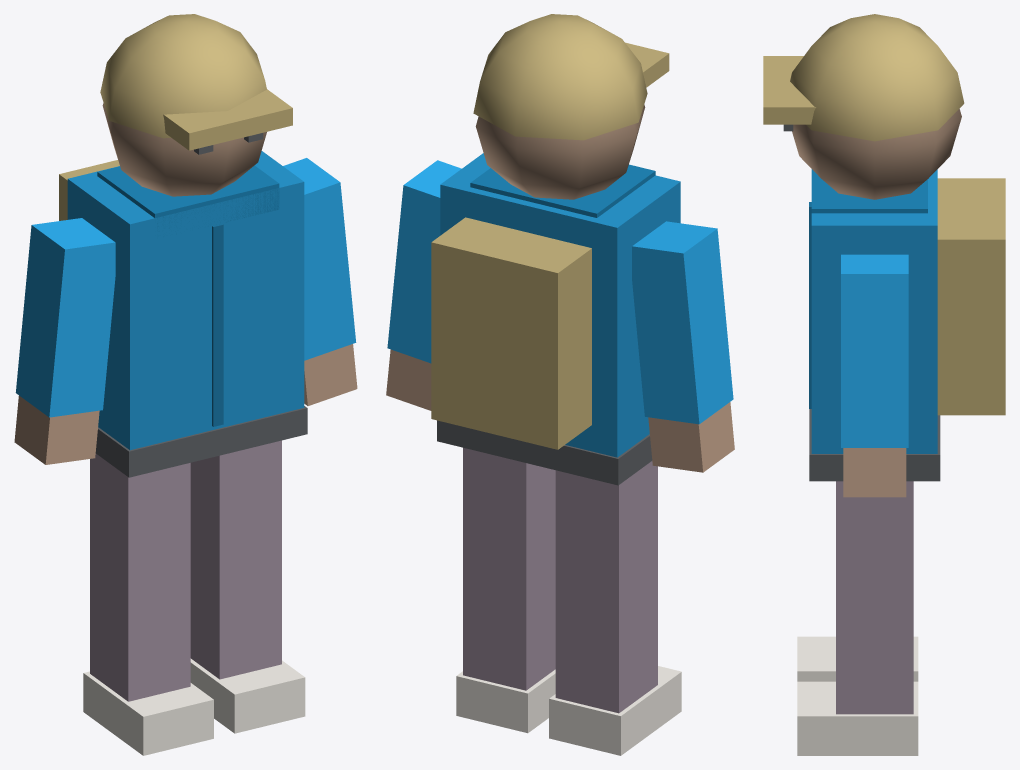
Rendered from actor_0.glb.
3 renders of one model, left to right at view 1: azimuth 30°, elevation 25°; view 2: azimuth 150°, elevation 25°; view 3: azimuth 270°, elevation 25°, orthographic.
Visible parts, largest first — view 1: pedestrian:cffffff, leg_0:cffffff, leg_1:cffffff, arm_0:cffffff, arm_1:cffffff; view 2: pedestrian:cffffff, leg_0:cffffff, leg_1:cffffff, arm_0:cffffff, arm_1:cffffff; view 3: pedestrian:cffffff, leg_1:cffffff, arm_1:cffffff, leg_0:cffffff.
Boxes of the visible parts, left/top/right/bottom form: pedestrian:cffffff: left=59, top=14, right=307, bottom=477; leg_0:cffffff: left=83, top=453, right=213, bottom=755; leg_1:cffffff: left=190, top=440, right=305, bottom=733; arm_0:cffffff: left=14, top=218, right=115, bottom=464; arm_1:cffffff: left=283, top=158, right=357, bottom=405; pedestrian:cffffff: left=431, top=14, right=680, bottom=485; leg_0:cffffff: left=549, top=461, right=681, bottom=755; leg_1:cffffff: left=456, top=447, right=555, bottom=733; arm_0:cffffff: left=632, top=221, right=734, bottom=472; arm_1:cffffff: left=386, top=160, right=461, bottom=410; pedestrian:cffffff: left=763, top=14, right=1005, bottom=481; leg_1:cffffff: left=797, top=481, right=918, bottom=755; arm_1:cffffff: left=841, top=254, right=908, bottom=497; leg_0:cffffff: left=797, top=636, right=918, bottom=681.
Size of the model in its own units: 0.7512 by 1.58 by 0.5.
